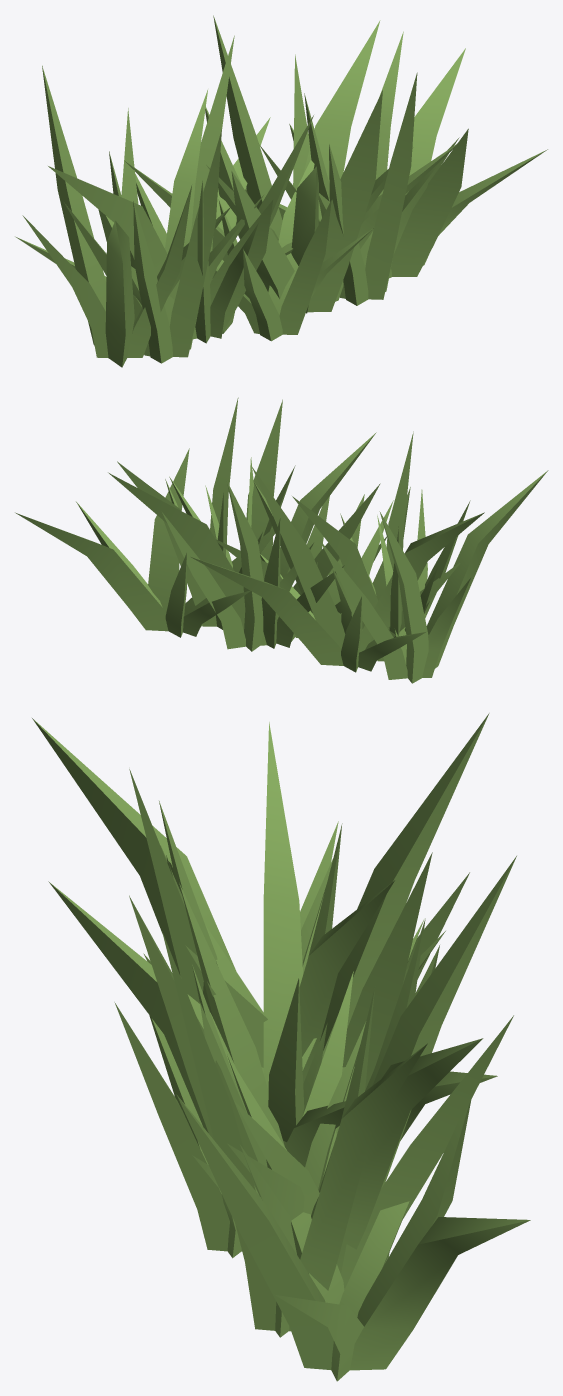
File: Grass_style2.fbx
3 views of the same model, one above another, from view 1: azimuth 30°, elevation 25°; view 2: azimuth 150°, elevation 25°; view 3: azimuth 270°, elevation 25° (orthographic). The views are drawn at different scales.
Parts seen in each view (by area): view 1: Grass_style2; view 2: Grass_style2; view 3: Grass_style2.
Boxes of the visible parts, bbox=[...] form: Grass_style2: bbox=[15, 15, 547, 367]; Grass_style2: bbox=[15, 397, 548, 683]; Grass_style2: bbox=[32, 713, 530, 1381].
Bounding box in the file's own units: 309 × 145 × 162.
